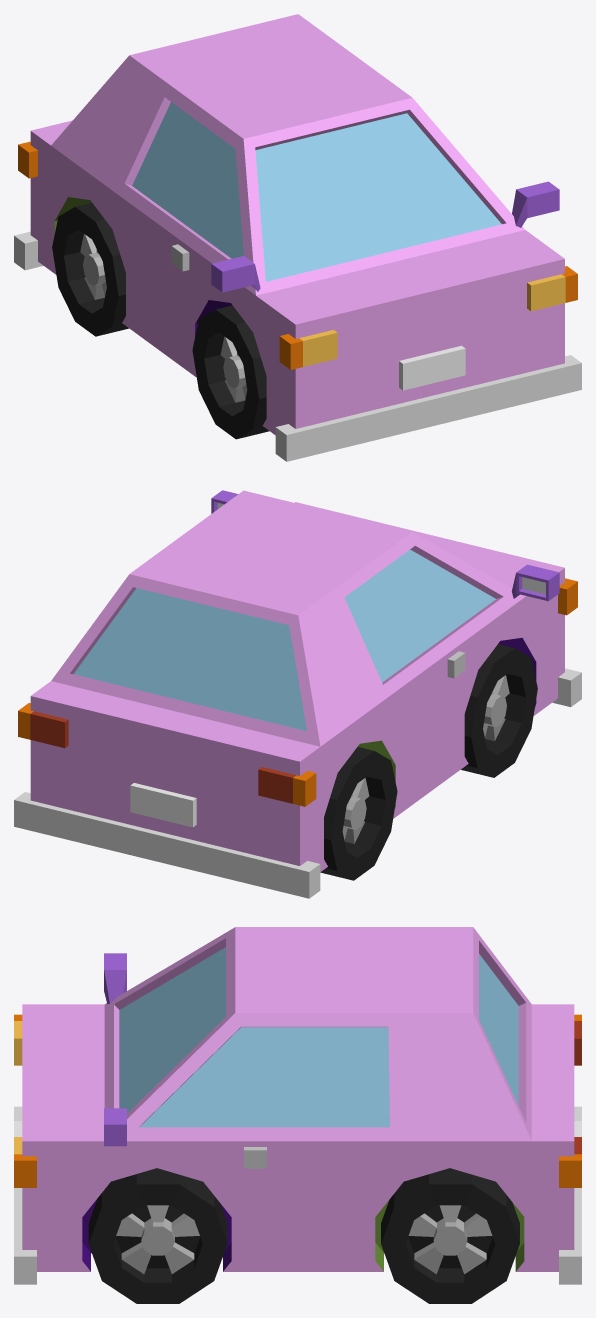
Rendered from car3.glb.
The picture shows the model from 3 angles, top to bottom: view 1: azimuth 30°, elevation 25°; view 2: azimuth 150°, elevation 25°; view 3: azimuth 270°, elevation 25°; orthographic projection. The views are drawn at different scales.
Visible parts, largest first — view 1: Vehicle.007_Material_0; view 2: Vehicle.007_Material_0; view 3: Vehicle.007_Material_0.
Part boxes in pixels (x1,y1,x2,y2): Vehicle.007_Material_0: [14, 14, 581, 461]; Vehicle.007_Material_0: [14, 490, 581, 898]; Vehicle.007_Material_0: [14, 927, 581, 1303].
Bounding box in the file's own units: 2.5 × 1.79 × 3.51.
1 material, 1 textured.
